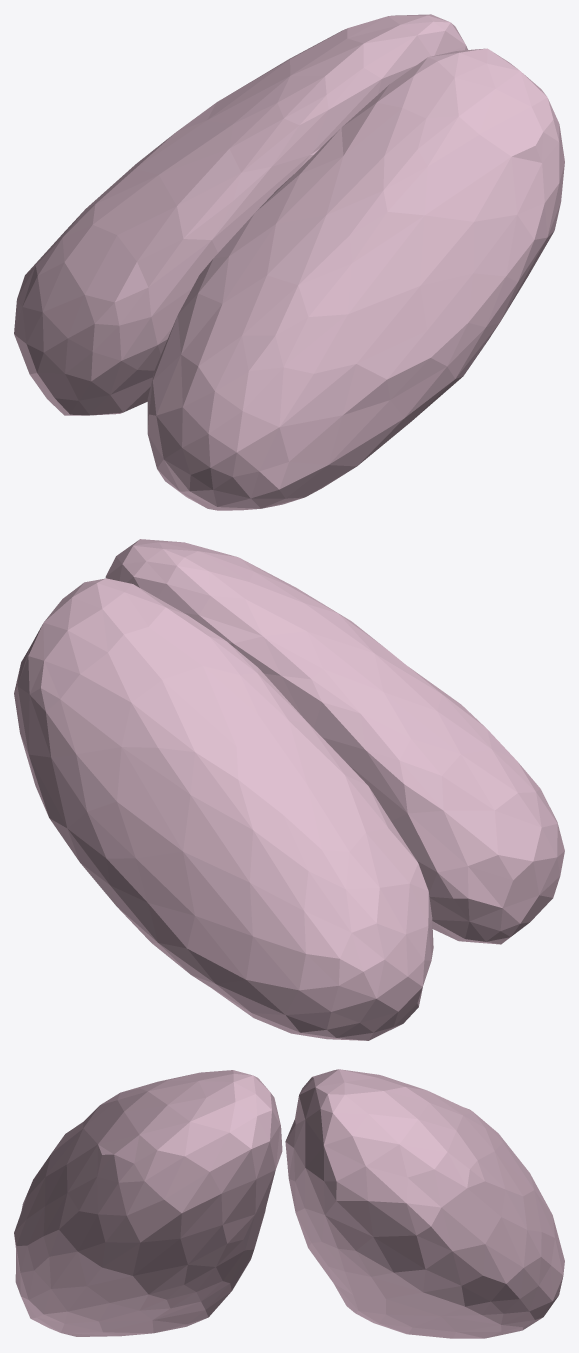
3 views of the same model, one above another, from view 1: azimuth 30°, elevation 25°; view 2: azimuth 150°, elevation 25°; view 3: azimuth 270°, elevation 25° (orthographic). The views are drawn at different scales.
Parts seen in each view (by area): view 1: 773.obj; view 2: 773.obj; view 3: 773.obj.
Part boxes in pixels (left/top/right/bottom): 773.obj: left=14, top=14, right=564, bottom=510; 773.obj: left=14, top=539, right=564, bottom=1040; 773.obj: left=14, top=1069, right=564, bottom=1338.
Size of the model in its own units: 908 by 751 by 932.
